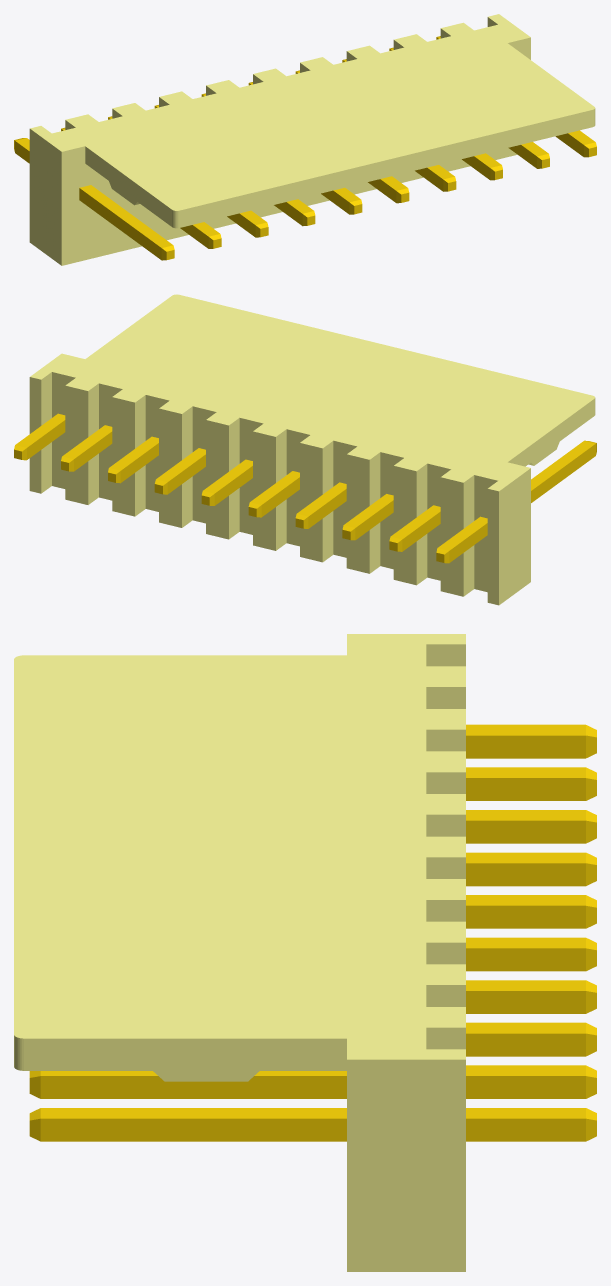
The model's file is DS1070-10 (WF-10 CONNFLY).obj.
3 renders of one model, top to bottom at view 1: azimuth 30°, elevation 25°; view 2: azimuth 150°, elevation 25°; view 3: azimuth 270°, elevation 25°, orthographic. The views are drawn at different scales.
Parts seen in each view (by area): view 1: DS1070-10_(WF-10_CONNFLY); view 2: DS1070-10_(WF-10_CONNFLY); view 3: DS1070-10_(WF-10_CONNFLY).
Boxes of the visible parts, x1,y1,x2,y2 form: DS1070-10_(WF-10_CONNFLY): (14,14,596,265); DS1070-10_(WF-10_CONNFLY): (14,294,596,605); DS1070-10_(WF-10_CONNFLY): (14,634,596,1271).
Size of the model in its own units: 0.0178 by 0.00414 by 0.0103.
